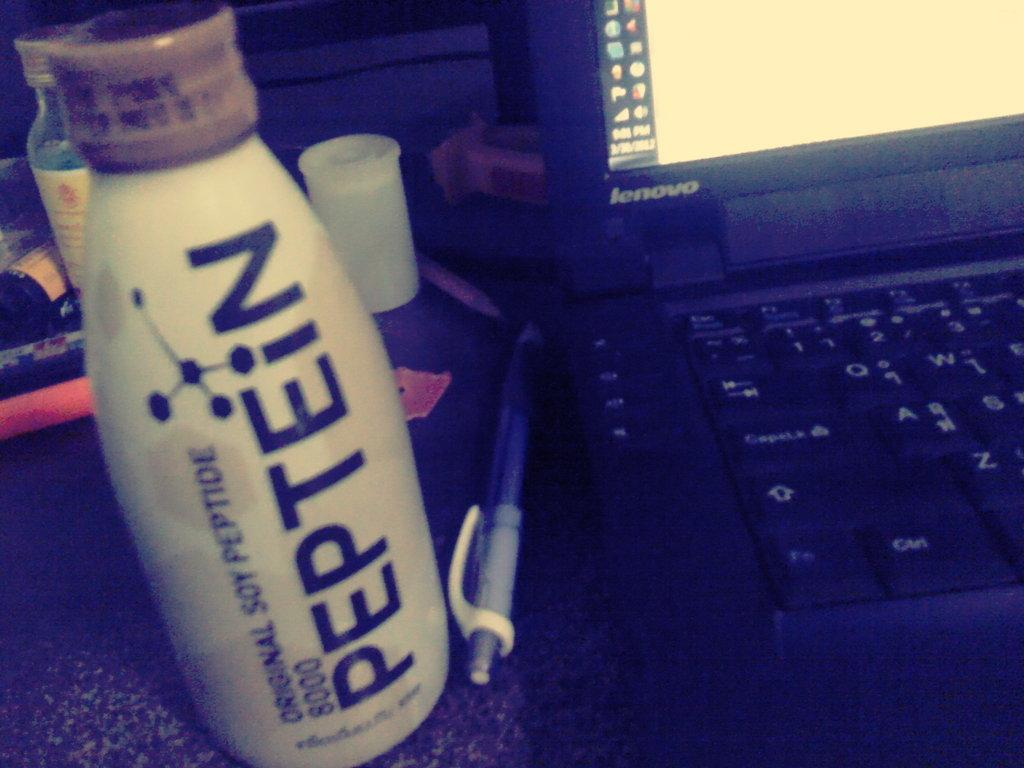Computer-keyboard: (673, 265, 1023, 608)
